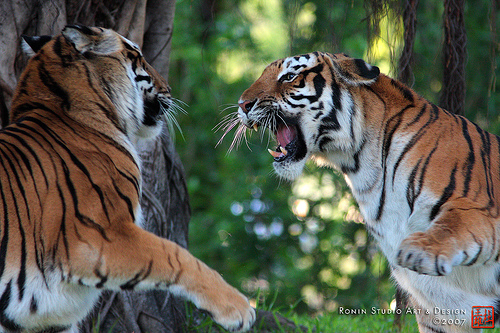Tigre: (242, 41, 496, 280), (20, 25, 211, 276)
